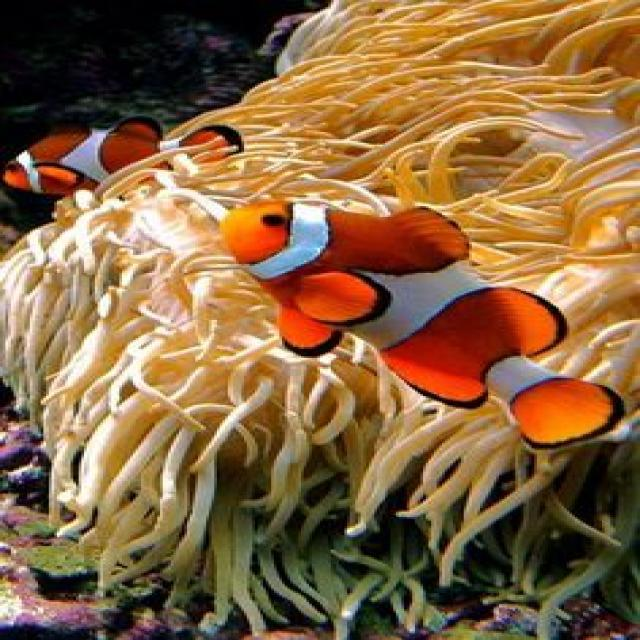ClownFish: (220, 197, 626, 450), (2, 118, 260, 196)
